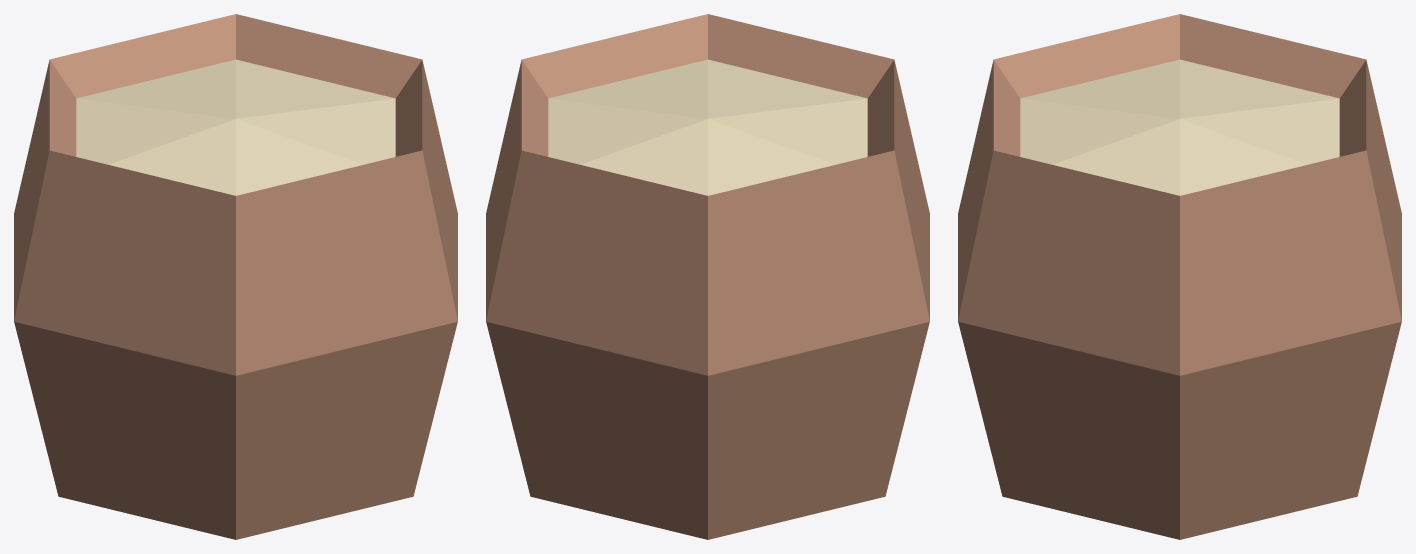
File: prop-curing-sand-pot-qc1.fbx
3 views of the same model, side by side, from view 1: azimuth 30°, elevation 25°; view 2: azimuth 150°, elevation 25°; view 3: azimuth 270°, elevation 25° (orthographic).
Parts seen in each view (by area): view 1: prop-curing-sand-pot-qc1; view 2: prop-curing-sand-pot-qc1; view 3: prop-curing-sand-pot-qc1.
Part boxes in pixels (x1=…): prop-curing-sand-pot-qc1: x1=14, y1=14, x2=457, y2=539; prop-curing-sand-pot-qc1: x1=486, y1=14, x2=929, y2=539; prop-curing-sand-pot-qc1: x1=958, y1=14, x2=1401, y2=539.
Bounding box in the file's own units: 10 × 7.5 × 8.66.
